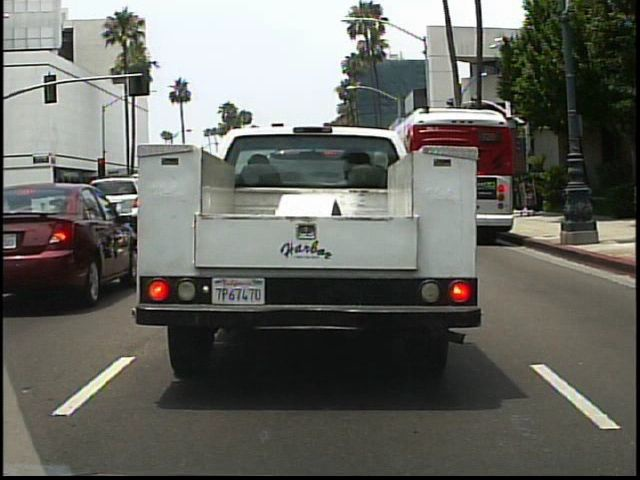person: (36, 194, 57, 238), (22, 197, 42, 232)
